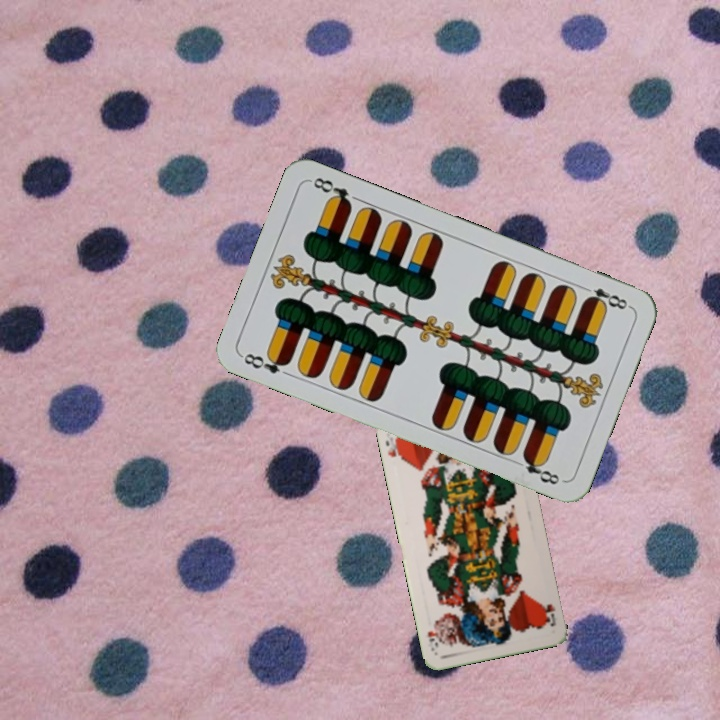E8: (577, 281, 633, 313), (238, 349, 293, 377)
HO: (381, 432, 405, 462), (538, 599, 558, 629)
